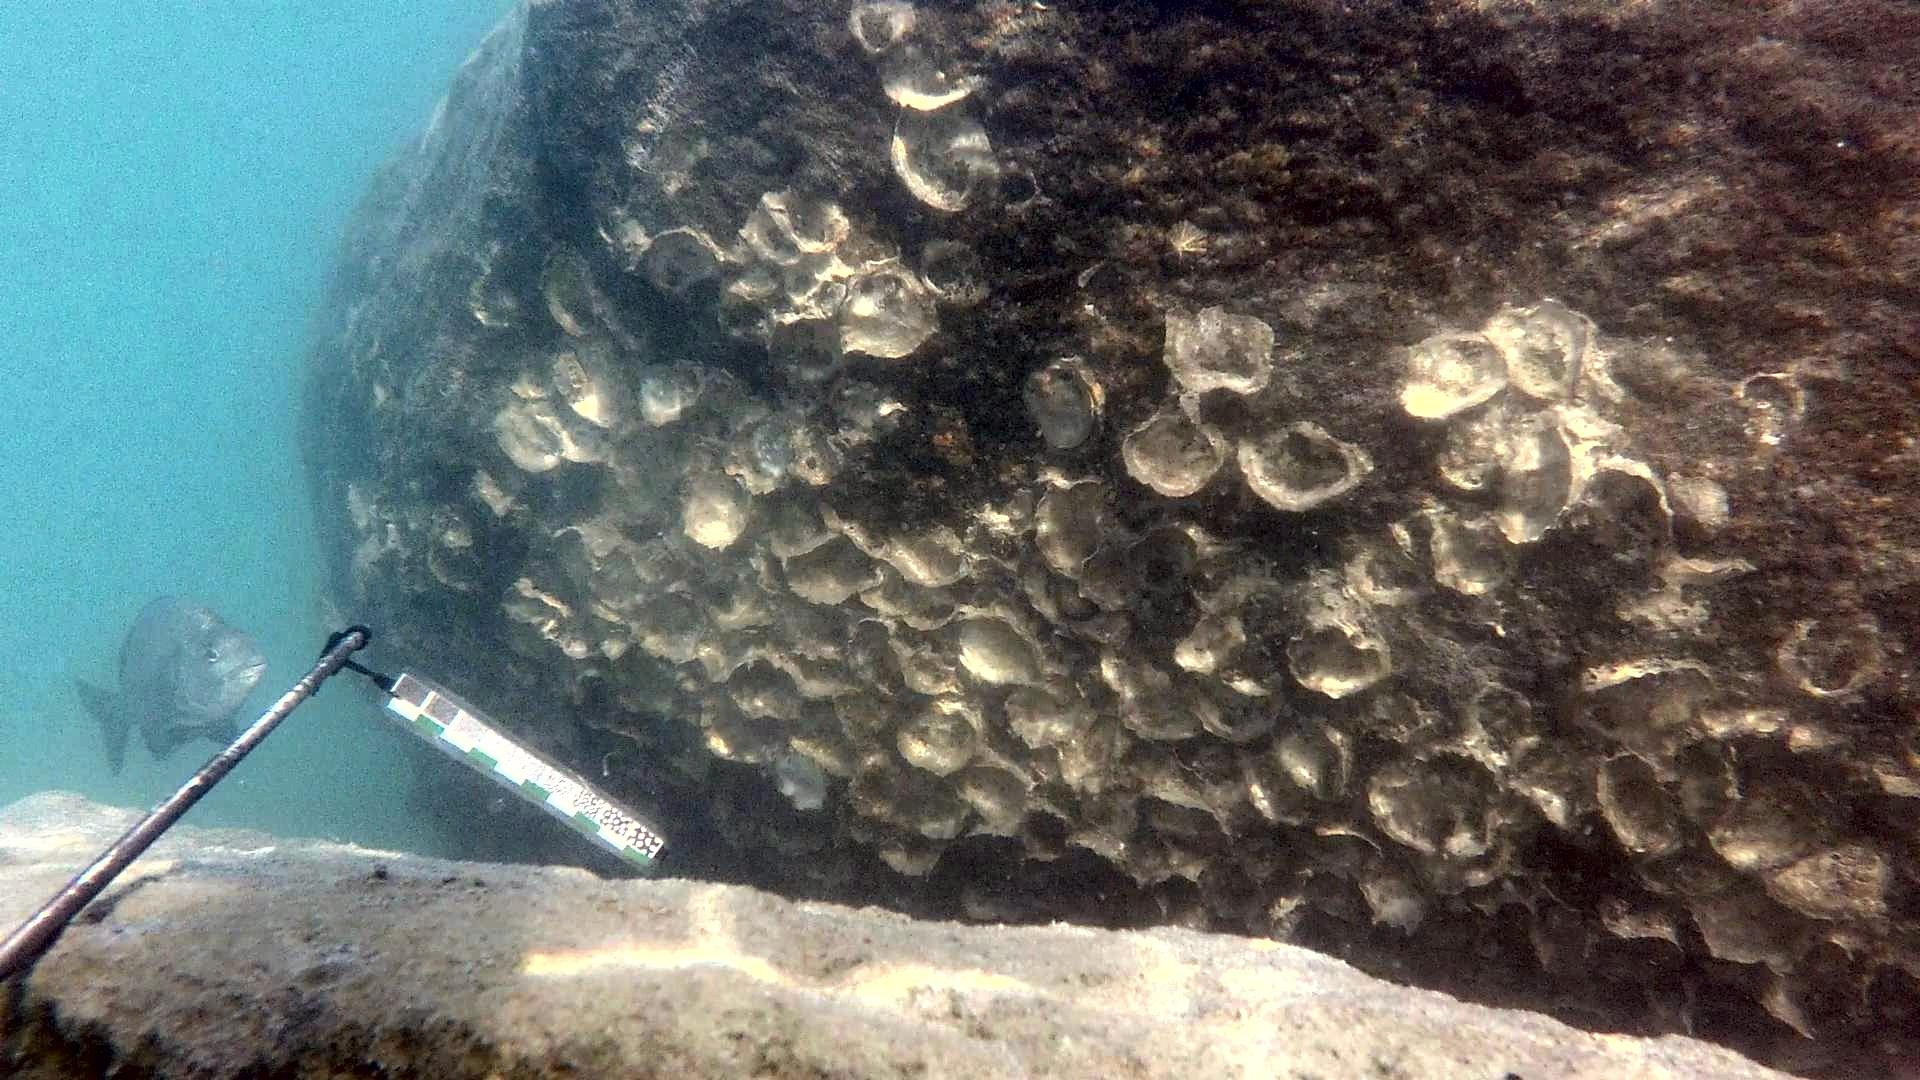acanthopagrus palmaris: (66, 578, 286, 785)
